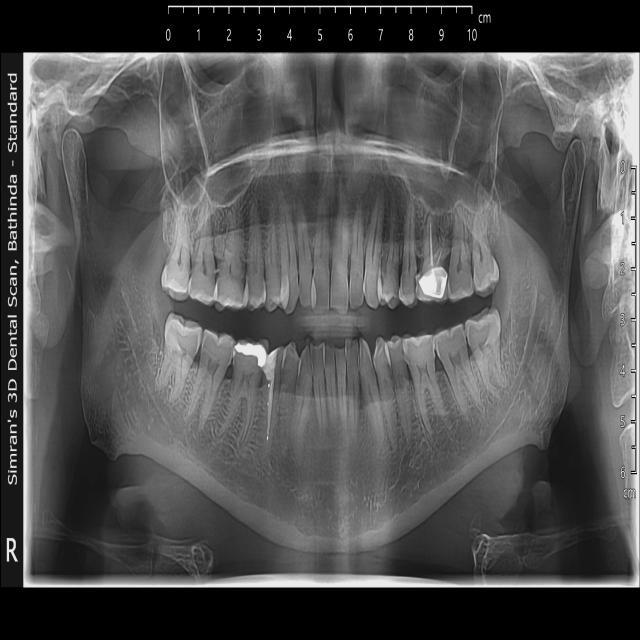Caries: (213, 268, 246, 304)
Crown: (418, 266, 448, 299), (238, 342, 266, 366)
Filling: (261, 349, 279, 444), (159, 265, 191, 297)
Root Piece: (418, 215, 448, 305)
